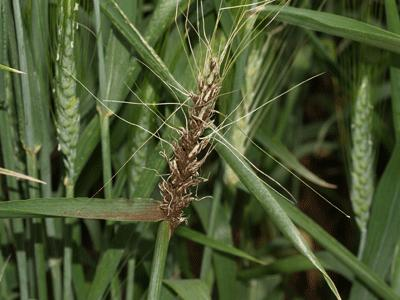Wheat Loose Smut: (165, 63, 228, 221)
